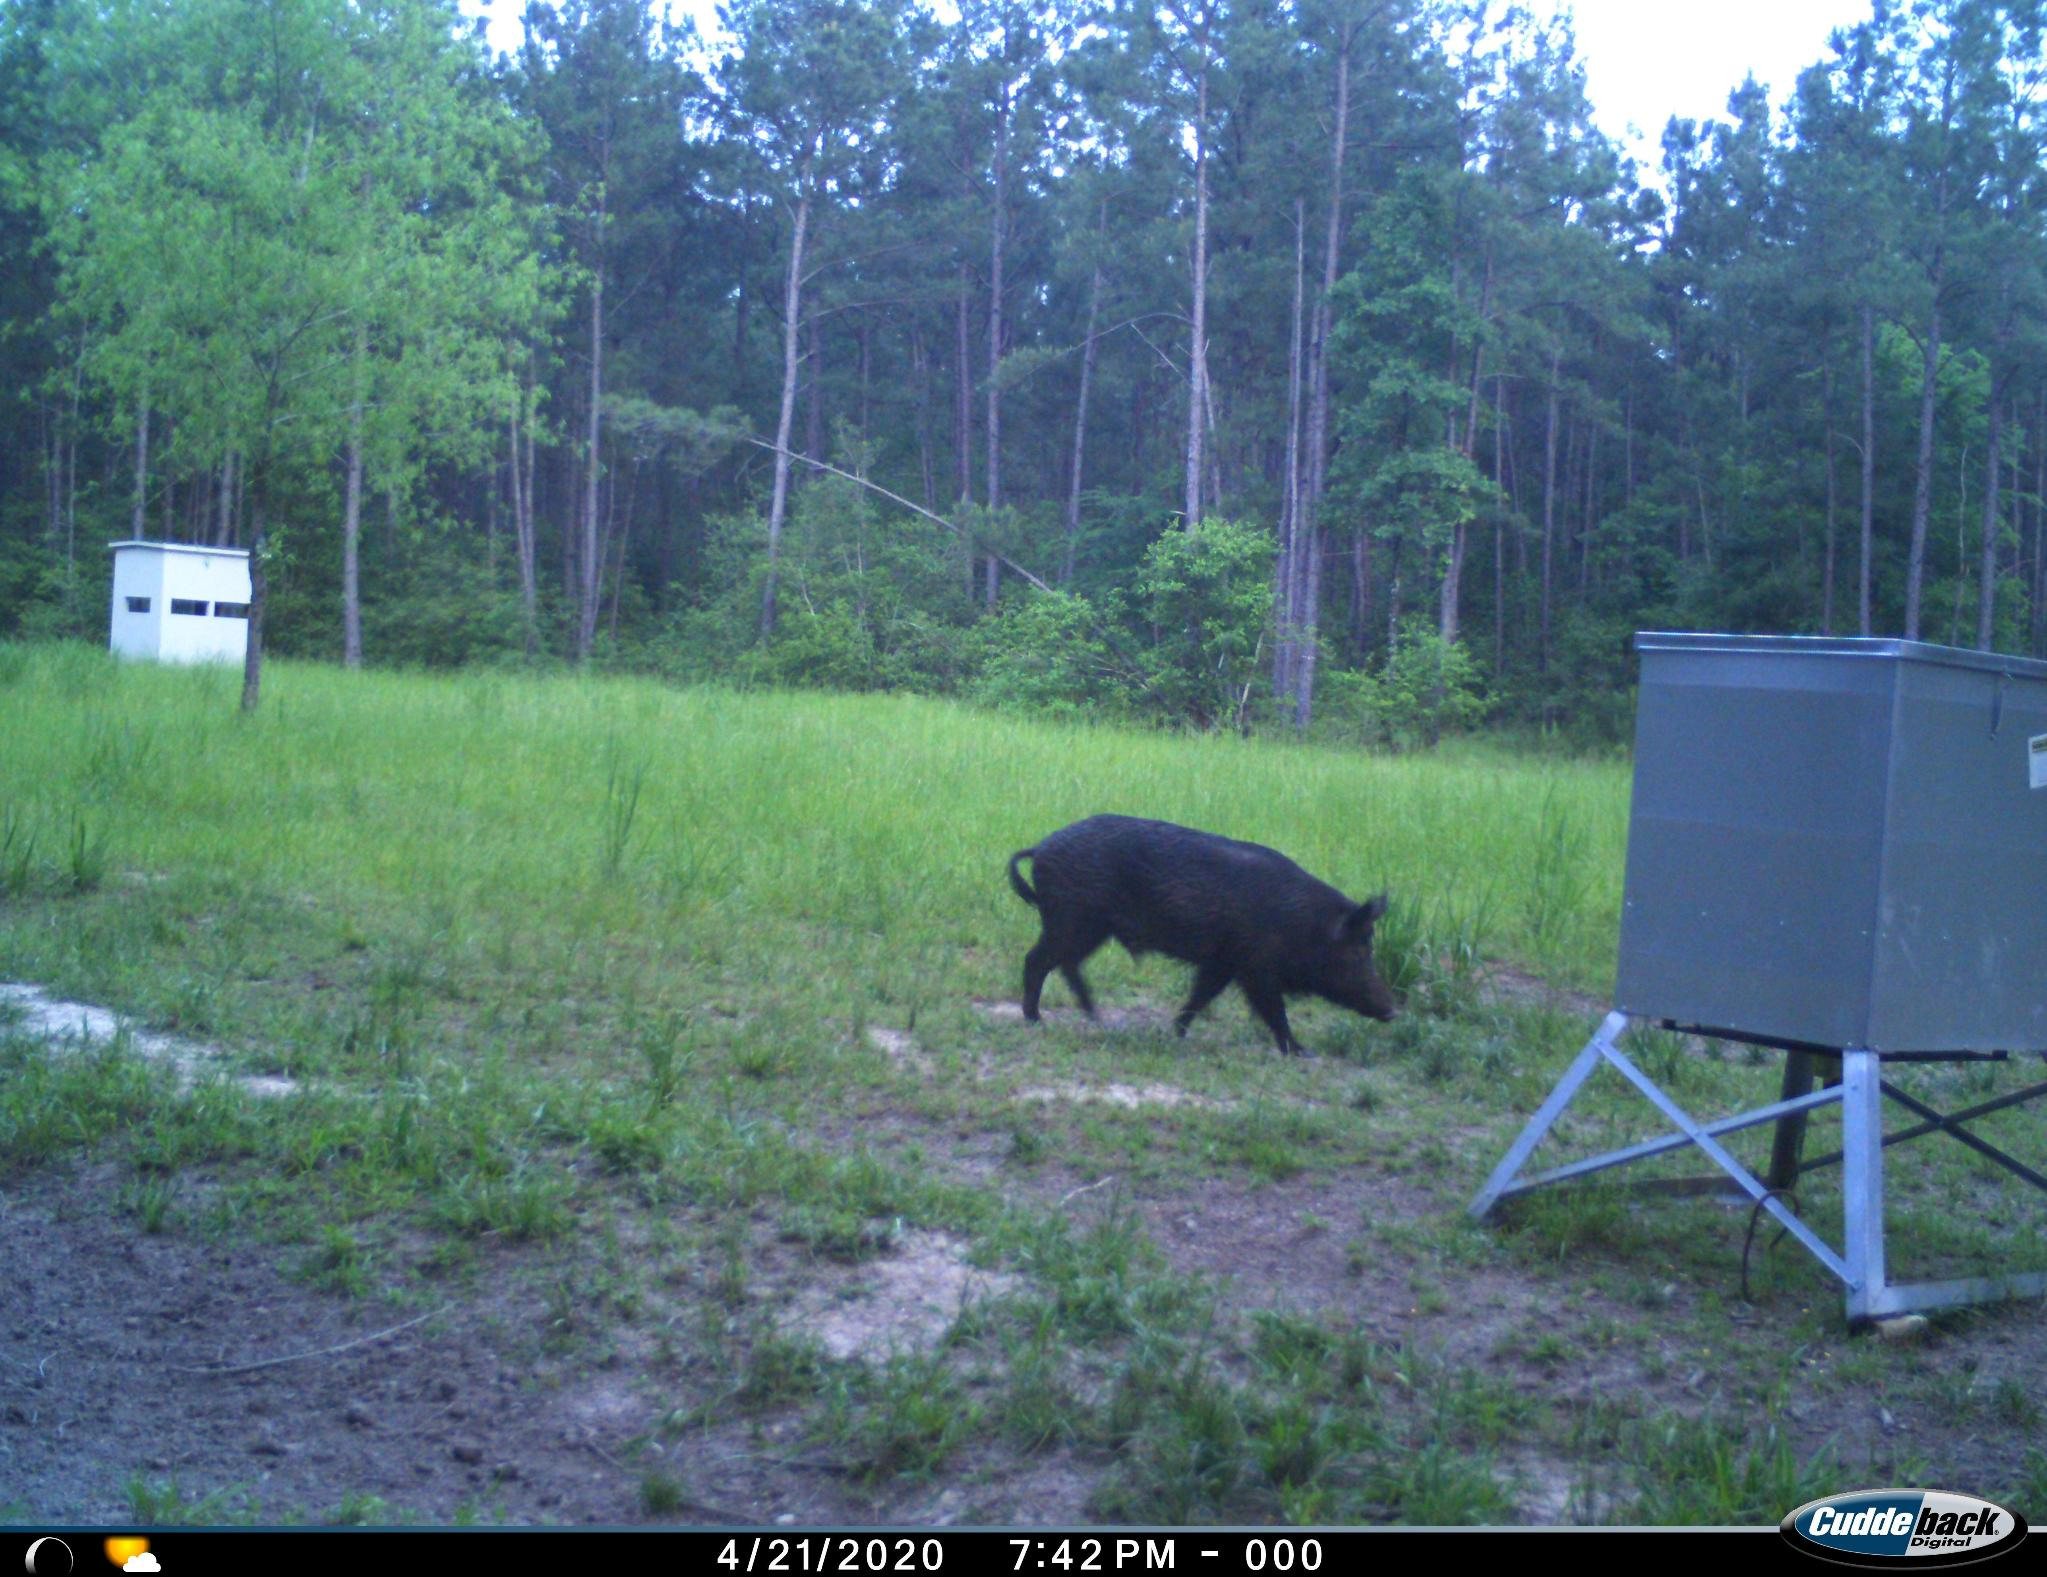Hog: (990, 810, 1403, 1073)
